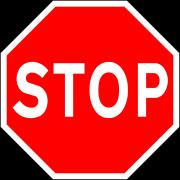Stop: (10, 9, 178, 167)
